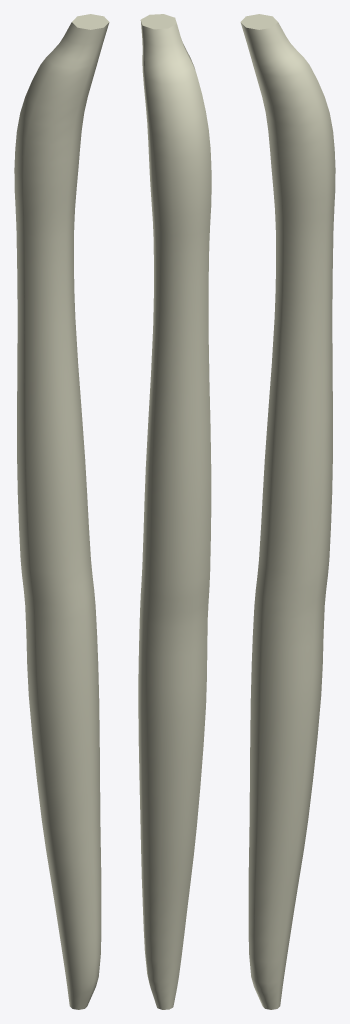
File: moyashi.fbx
3 renders of one model, left to right at view 1: azimuth 90°, elevation 25°; view 2: azimuth 210°, elevation 25°; view 3: azimuth 270°, elevation 25°, orthographic.
Visible parts, largest first — view 1: Loft, Cap_2; view 2: Loft, Cap_2; view 3: Loft, Cap_2.
Boxes of the visible parts, left/top/right/bottom form: Loft: left=14, top=22, right=109, bottom=1009; Cap_2: left=72, top=14, right=108, bottom=29; Loft: left=138, top=20, right=211, bottom=1009; Cap_2: left=141, top=14, right=176, bottom=29; Loft: left=240, top=22, right=335, bottom=1009; Cap_2: left=241, top=14, right=277, bottom=29.
Bounding box in the file's own units: 7.8 × 119 × 10.43.
